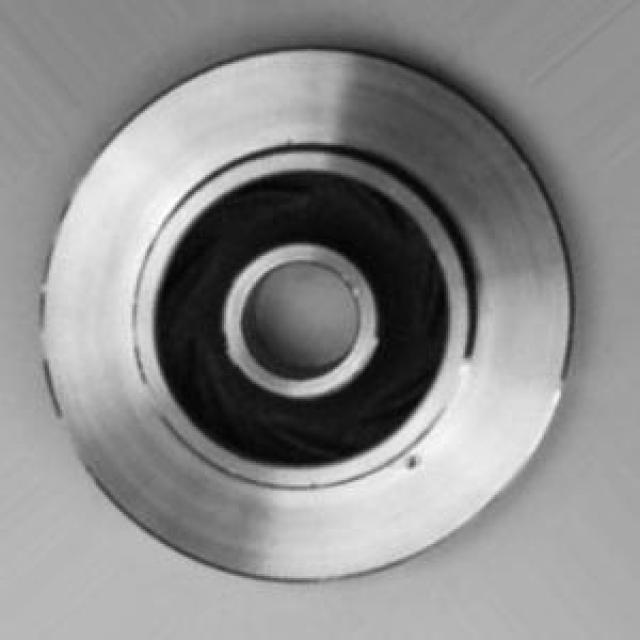Defect: (396, 446, 434, 483)
